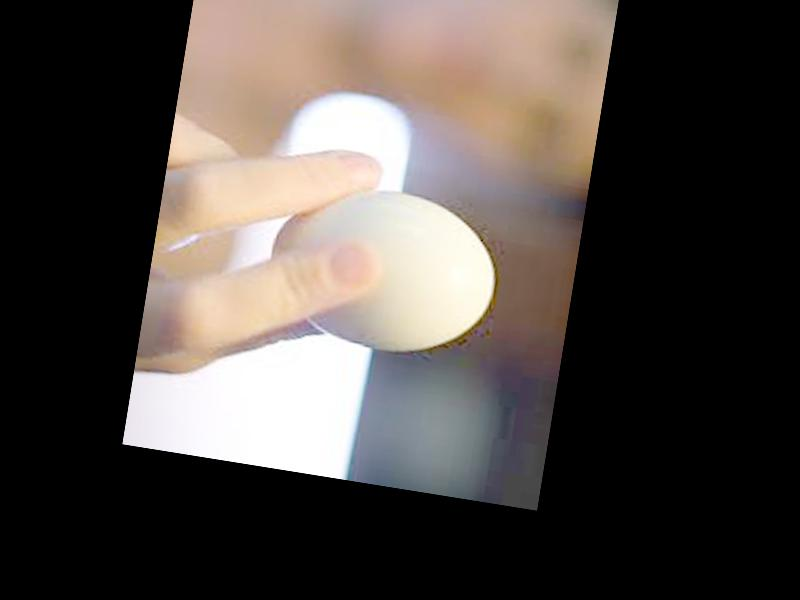Eggs: (259, 170, 506, 363)
